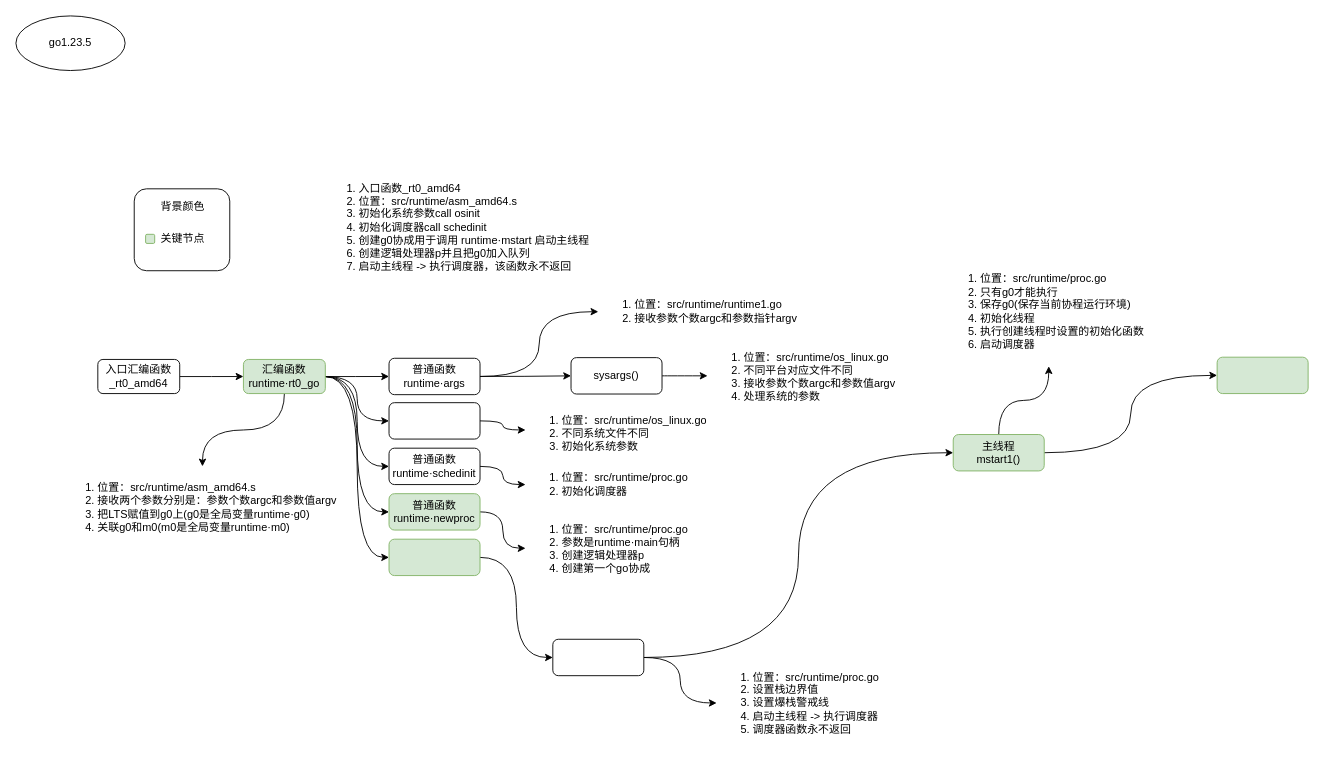
Image size: 1324x774. Some labels were removed from this diagram. The box of each missing label's shape, as (x1, y1, x2, y2) in pixels:
普通函数 runtime·osinit: (388, 402, 480, 439)
普通函数永不返回 runtime·mstart0: (552, 638, 644, 676)
汇编函数 runtime·mstart: (388, 538, 480, 576)
调度器 schedule(): (1216, 356, 1308, 394)
